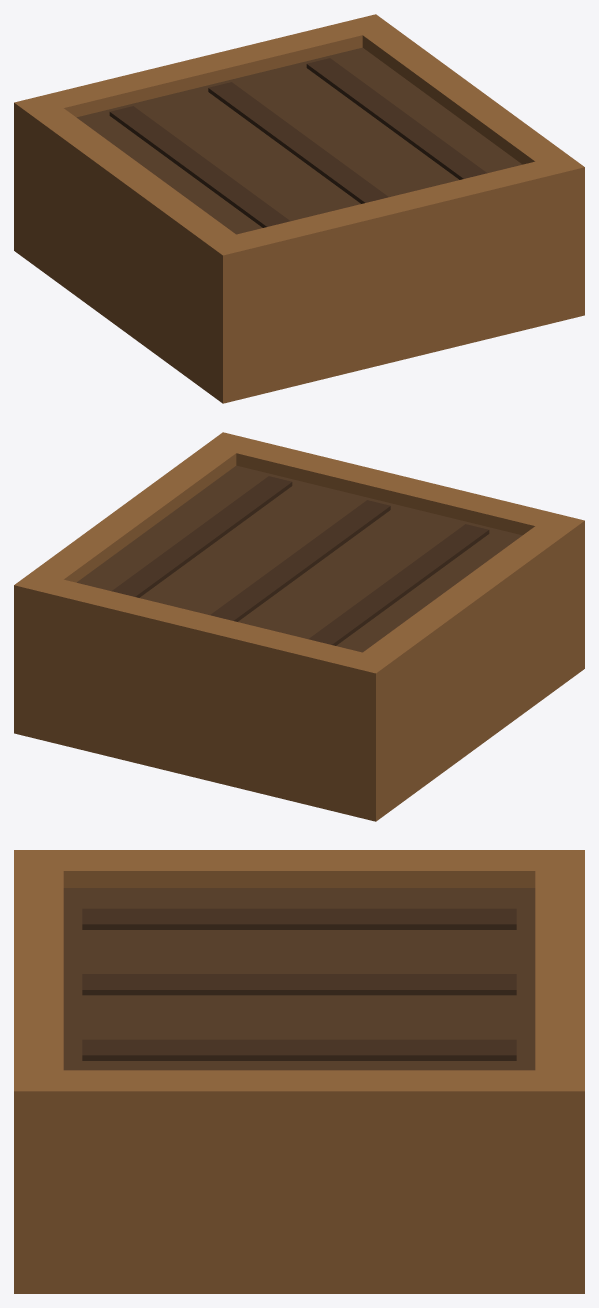
File: PlanterBed.fbx
The picture shows the model from 3 angles, top to bottom: view 1: azimuth 30°, elevation 25°; view 2: azimuth 150°, elevation 25°; view 3: azimuth 270°, elevation 25°; orthographic projection. The views are drawn at different scales.
Parts seen in each view (by area): view 1: PlanterBed_Body; view 2: PlanterBed_Body; view 3: PlanterBed_Body.
Boxes of the visible parts, <box> form: PlanterBed_Body: <box>14,14,584,403</box>; PlanterBed_Body: <box>14,432,584,821</box>; PlanterBed_Body: <box>14,850,584,1293</box>.
Bounding box in the file's own units: 0.92 × 0.36 × 0.92.
